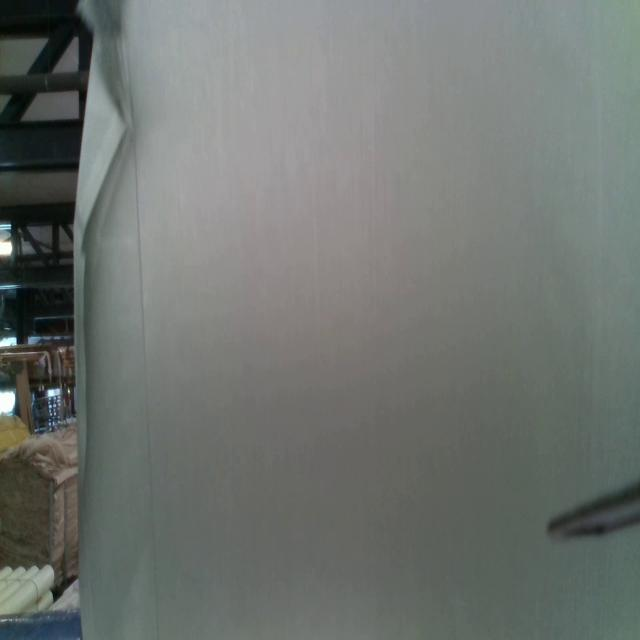crease: (132, 90, 160, 638)
